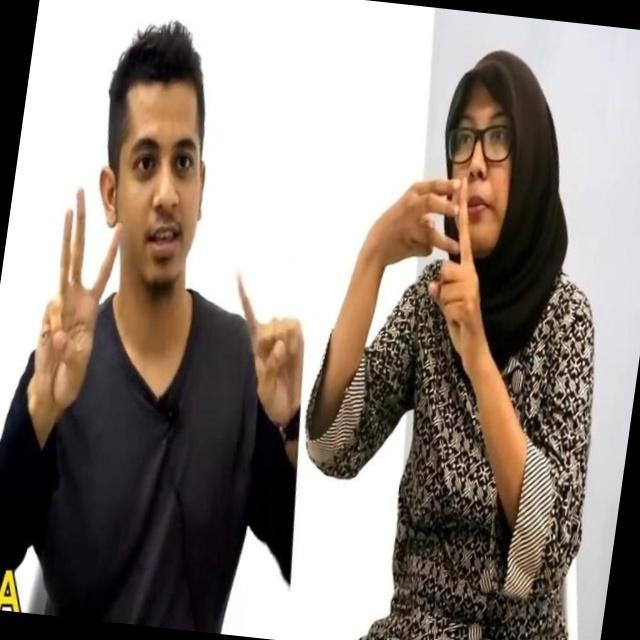B: (384, 169, 489, 317)
